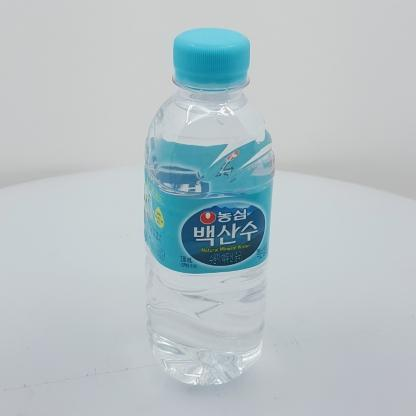-----330ML: (144, 28, 275, 386)
